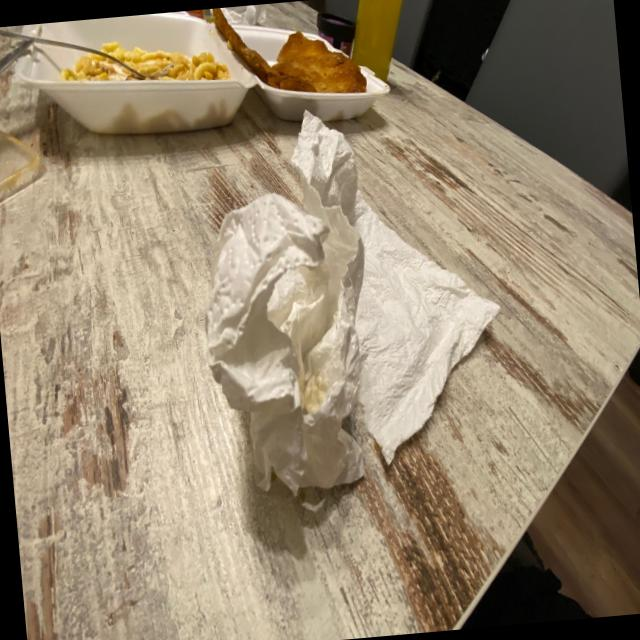organic waste: (188, 90, 513, 504)
